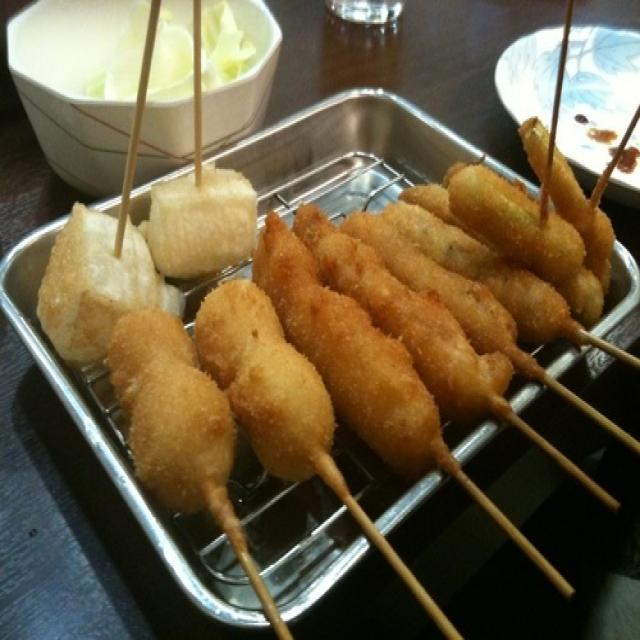炸货点心: (168, 119, 310, 274)
牛肉菜式: (162, 64, 572, 613)
